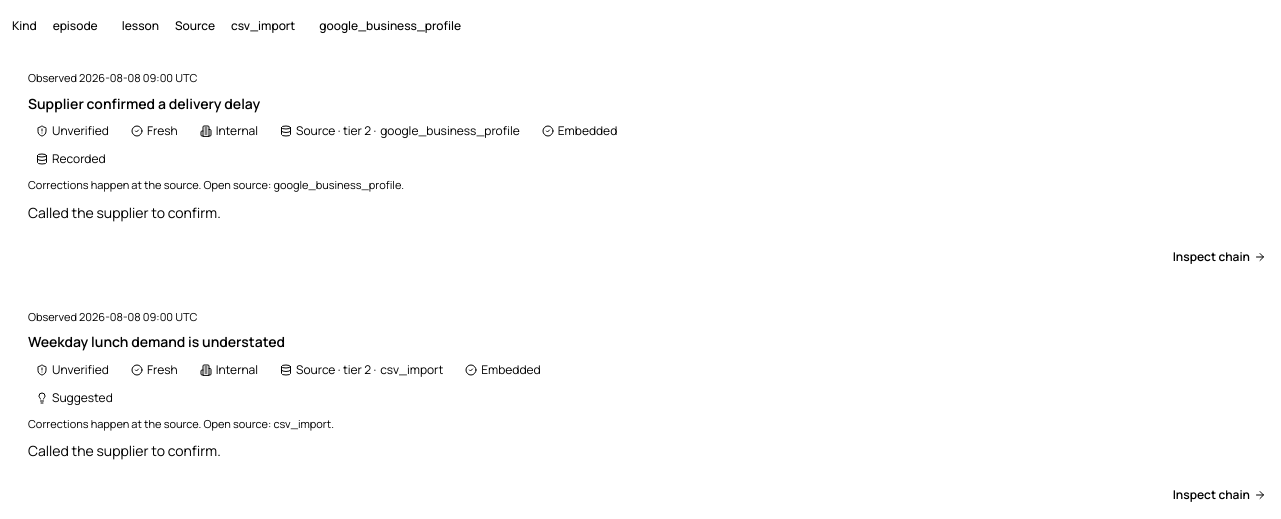
Test case: Timeline kind filter › hides on-screen rows of an unselected kind without refetching
Expected: the heading "Supplier confirmed a delivery delay" is shown, [28,94,260,113]
Expected: the heading "Weekday lunch demand is understated" is shown, [28,332,285,351]
Click the button "lesson" at (140,26), box [114,12,167,40]
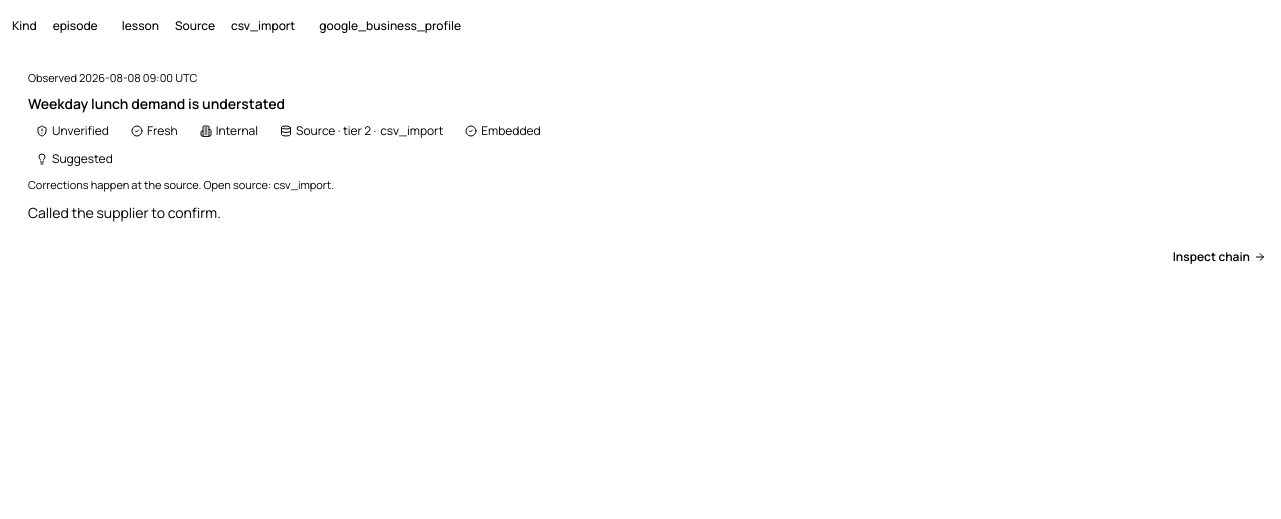
Expected: the heading "Weekday lunch demand is understated" is shown, [28,94,285,113]
Expected: the heading "Supplier confirmed a delivery delay" is gone
Click the button "lesson" at (140,26), box [114,12,167,40]
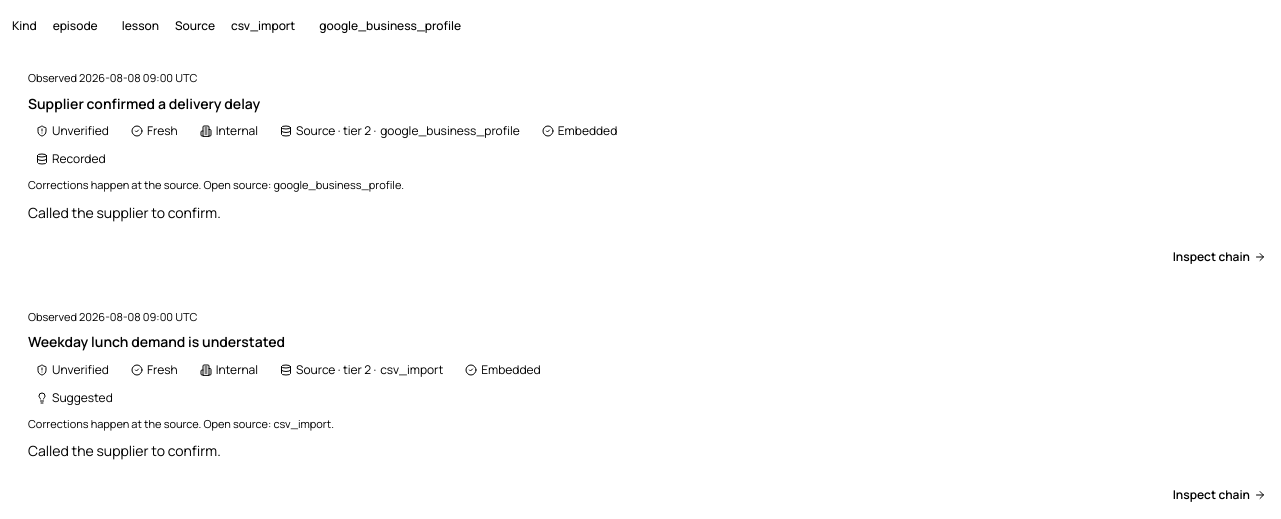
Expected: the heading "Supplier confirmed a delivery delay" is shown, [28,94,260,113]
